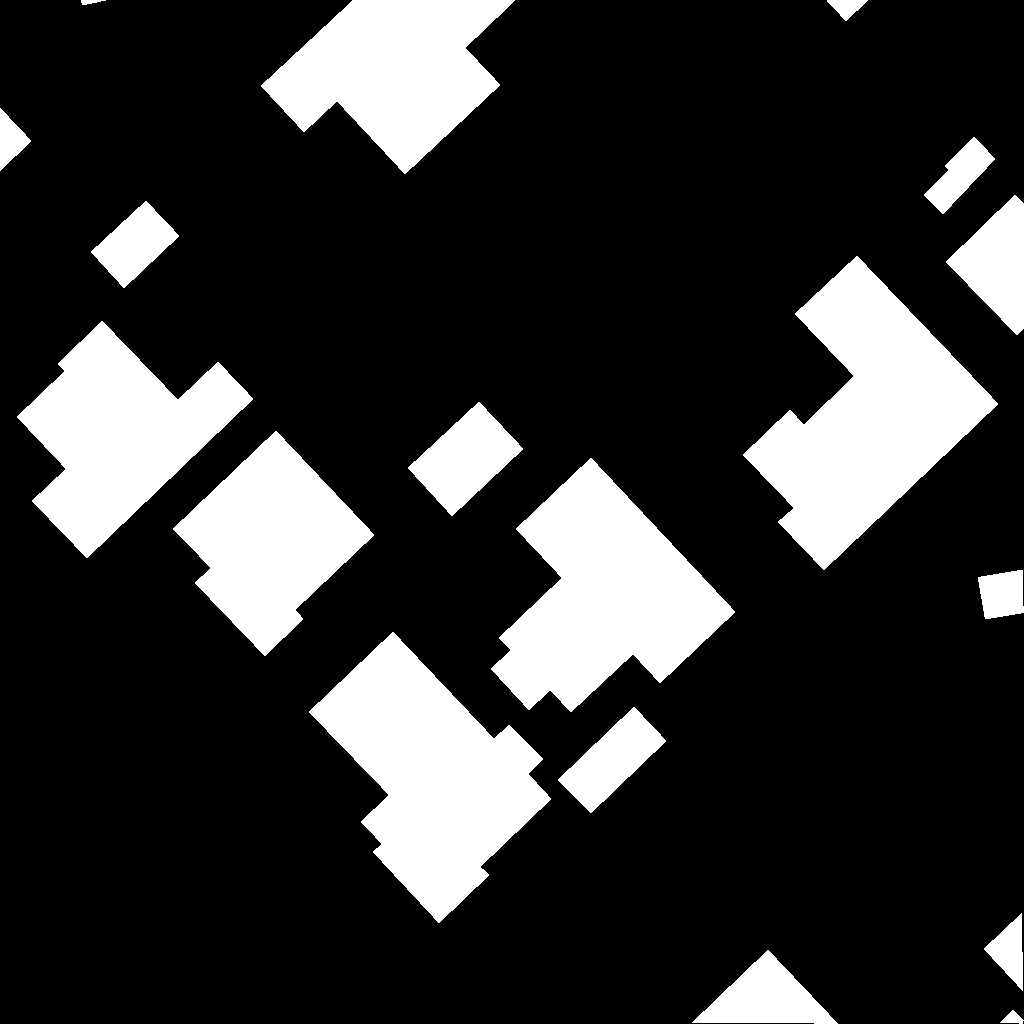building: (743, 256, 999, 571), (309, 632, 552, 924), (491, 458, 736, 713), (17, 321, 254, 559), (173, 431, 375, 657), (261, 0, 517, 175), (408, 402, 524, 517), (558, 707, 667, 814), (946, 195, 1024, 336), (692, 950, 839, 1024), (91, 201, 180, 289), (924, 137, 996, 215), (984, 913, 1024, 992), (978, 570, 1024, 620), (0, 108, 32, 172), (826, 0, 869, 22), (1000, 1010, 1024, 1024), (81, 0, 109, 6)
